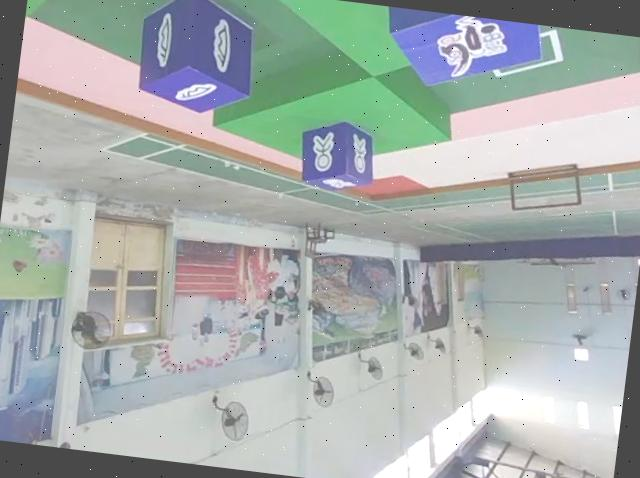R1 Blue: (371, 6, 546, 98)
R2 Real Blue: (135, 0, 265, 117), (298, 115, 383, 197)
